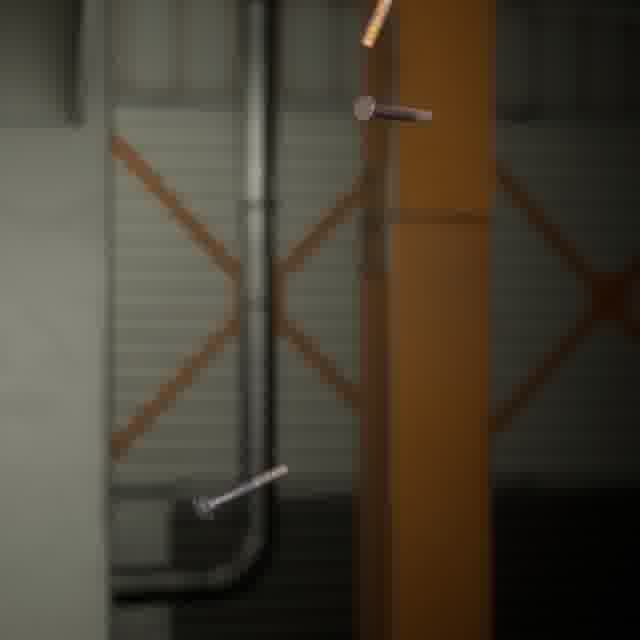bolt: (189, 458, 293, 525), (347, 91, 437, 127), (355, 0, 400, 53)
